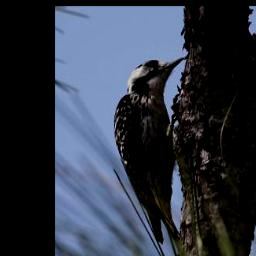Woodpecker: (106, 46, 193, 252)
